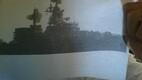tau_muctieu: (1, 1, 127, 55)
